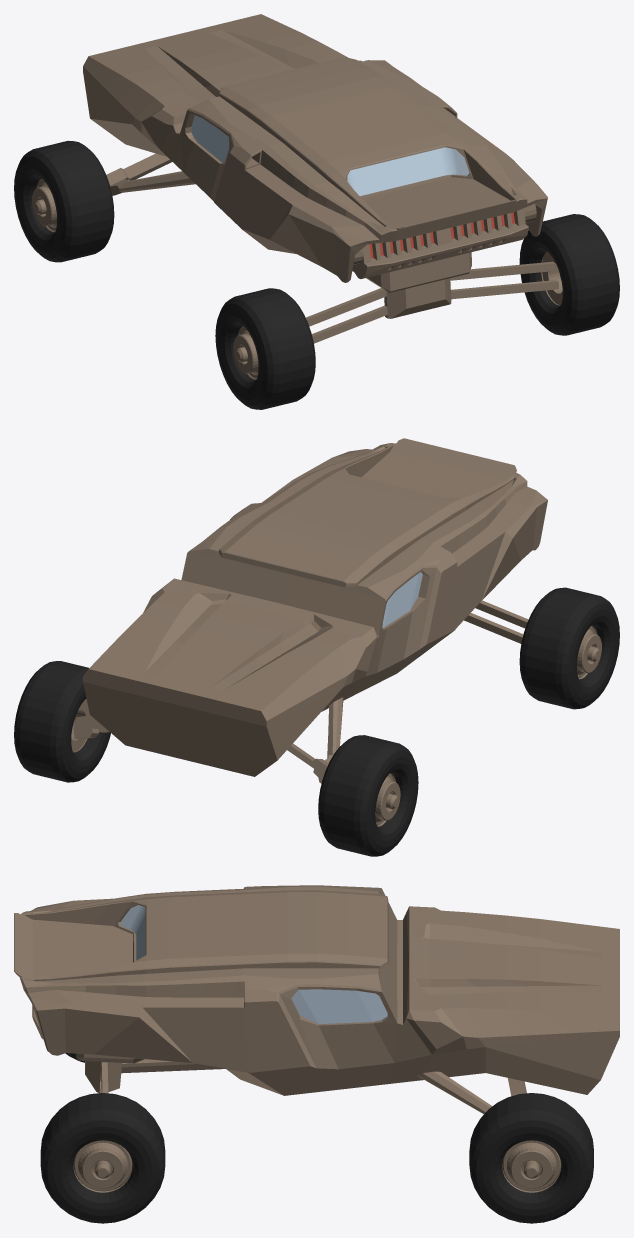
Rendered from Car1.fbx.
3 renders of one model, top to bottom at view 1: azimuth 30°, elevation 25°; view 2: azimuth 150°, elevation 25°; view 3: azimuth 270°, elevation 25°, orthographic. The views are drawn at different scales.
Parts seen in each view (by area): view 1: Body, Back-L, Front-L, Back-R; view 2: Body, Back-L, Front-L, Front-R; view 3: Body, Back-R, Front-R.
Part boxes in pixels (x1,y1,x2,y2): Body: [83, 14, 558, 343]; Back-L: [215, 288, 315, 409]; Front-L: [14, 140, 114, 262]; Back-R: [519, 214, 619, 335]; Body: [73, 438, 547, 783]; Back-L: [519, 587, 619, 709]; Front-L: [318, 735, 418, 856]; Front-R: [14, 661, 110, 782]; Body: [14, 885, 619, 1113]; Back-R: [40, 1093, 165, 1223]; Front-R: [469, 1093, 593, 1223].
Size of the model in its own units: 142 by 75.4 by 195.
